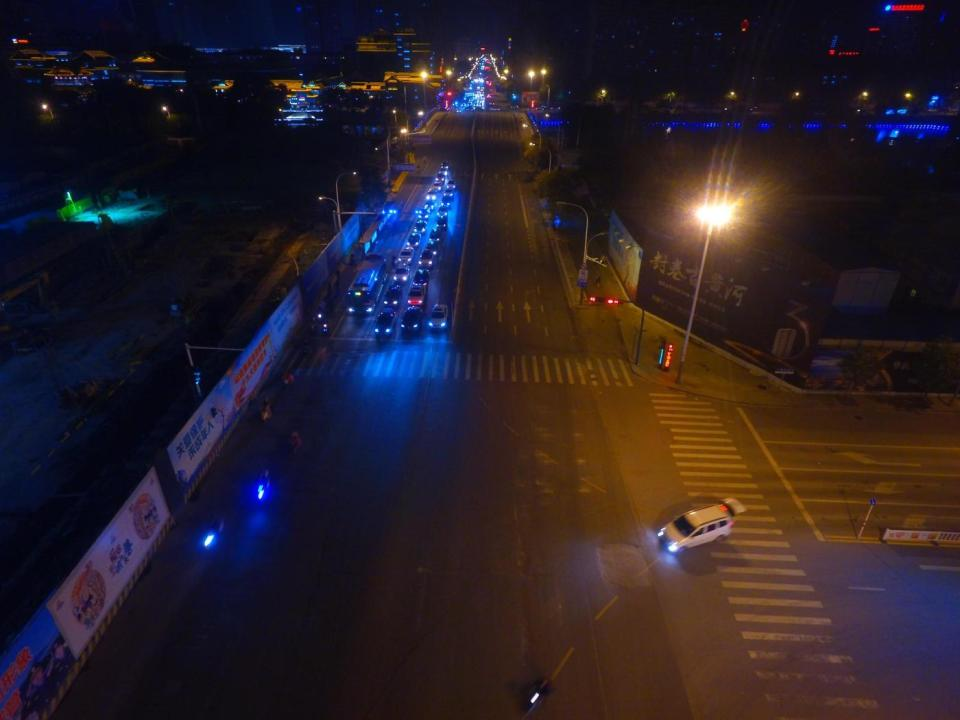bus: (346, 252, 388, 314)
car: (656, 494, 749, 554), (374, 307, 397, 340), (429, 303, 450, 331), (401, 305, 423, 331), (406, 283, 426, 305), (384, 284, 402, 308), (413, 268, 430, 288), (393, 262, 410, 282), (419, 249, 435, 268), (398, 246, 414, 264), (428, 227, 442, 245), (406, 232, 422, 247), (414, 220, 427, 235), (440, 195, 452, 210), (426, 186, 437, 202), (423, 198, 436, 211), (418, 207, 430, 220), (436, 215, 447, 229), (438, 205, 449, 218), (446, 179, 458, 190), (432, 181, 442, 192), (435, 173, 445, 184), (443, 188, 453, 198), (440, 160, 449, 171), (439, 167, 448, 177), (536, 104, 546, 110), (510, 104, 519, 109), (491, 106, 498, 112)
